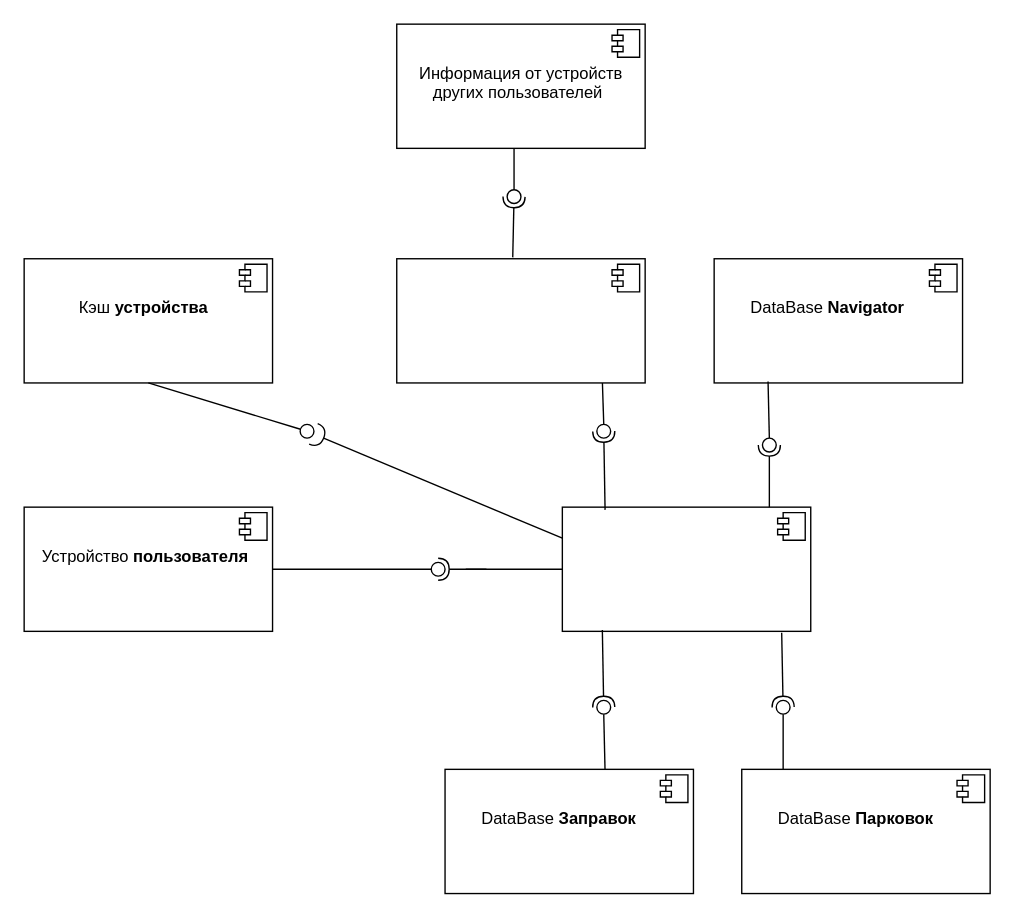
This 1014x918 diagram has some shape labels left out. Here are the shapes that lost their labels. From the top down, the centre of each, then its label:
(520,320): Server Navigator
(686,568): Приложение Navigator
